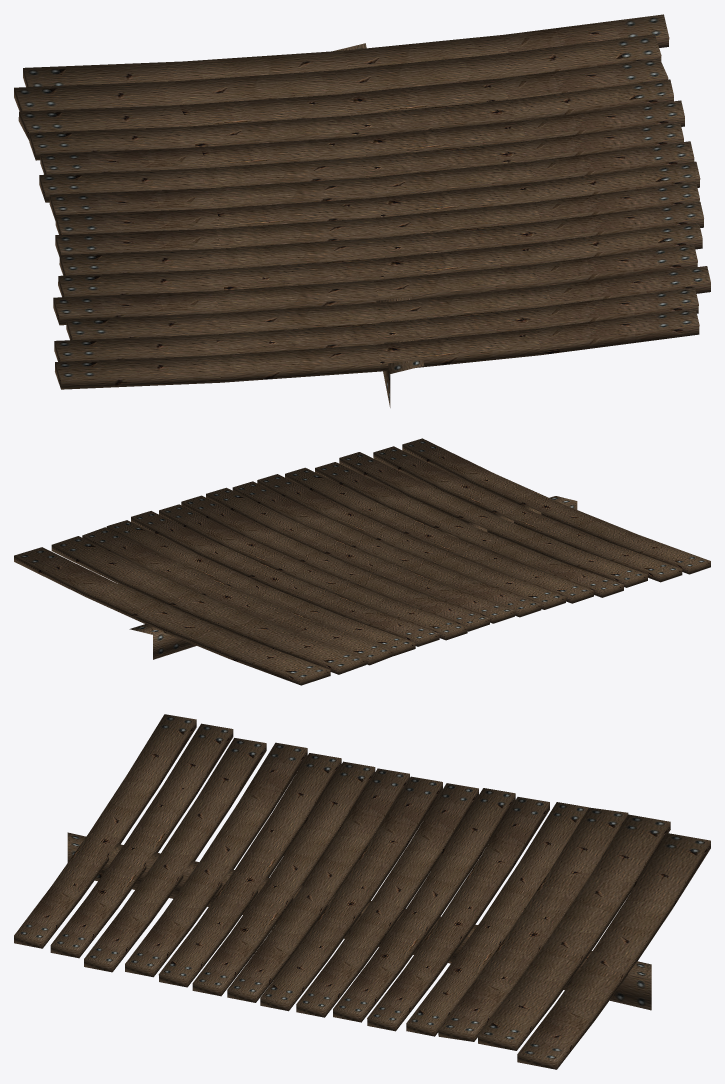
Rendered from woodbridge.glb.
3 renders of one model, top to bottom at view 1: azimuth 30°, elevation 25°; view 2: azimuth 150°, elevation 25°; view 3: azimuth 270°, elevation 25°, orthographic. The views are drawn at different scales.
Parts seen in each view (by area): view 1: wood_beam.jpg__; view 2: wood_beam.jpg__; view 3: wood_beam.jpg__.
Part boxes in pixels (bbox=[...]): wood_beam.jpg__: bbox=[14, 14, 710, 407]; wood_beam.jpg__: bbox=[14, 438, 710, 685]; wood_beam.jpg__: bbox=[14, 714, 710, 1069].
Bounding box in the file's own units: 20.79 × 1.69 × 18.42.
1 material, 1 textured.
